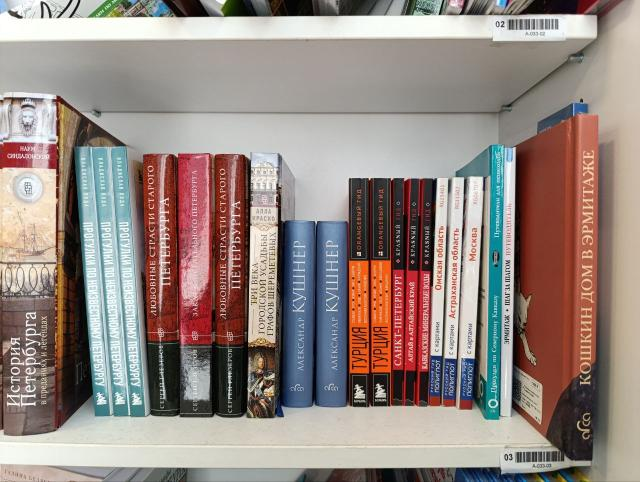book-s-spine: (3, 91, 60, 436), (73, 145, 111, 418), (92, 145, 129, 417), (570, 114, 599, 461), (142, 153, 179, 417), (111, 145, 146, 418), (178, 152, 213, 418), (246, 151, 279, 420), (215, 153, 246, 418), (280, 220, 316, 407), (315, 221, 348, 408), (458, 175, 484, 410), (442, 177, 465, 407), (486, 143, 505, 421), (349, 177, 370, 408), (500, 147, 517, 418), (371, 177, 391, 407), (428, 177, 448, 407), (416, 178, 433, 408), (404, 178, 420, 407), (392, 177, 405, 407)
